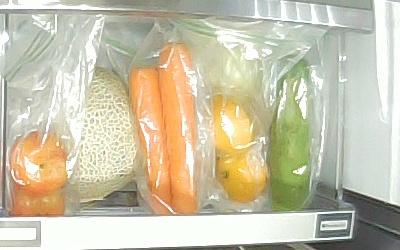cabbage_vinyl: (212, 47, 260, 94)
carrot_vinyl: (157, 42, 198, 214), (129, 67, 169, 215)
melon: (67, 65, 140, 201)
prune_vinyl: (10, 130, 69, 195), (10, 185, 65, 216)
tangerine_vinyl: (215, 146, 269, 204), (207, 94, 253, 155)
zucchini_vinyl: (268, 55, 312, 213)
